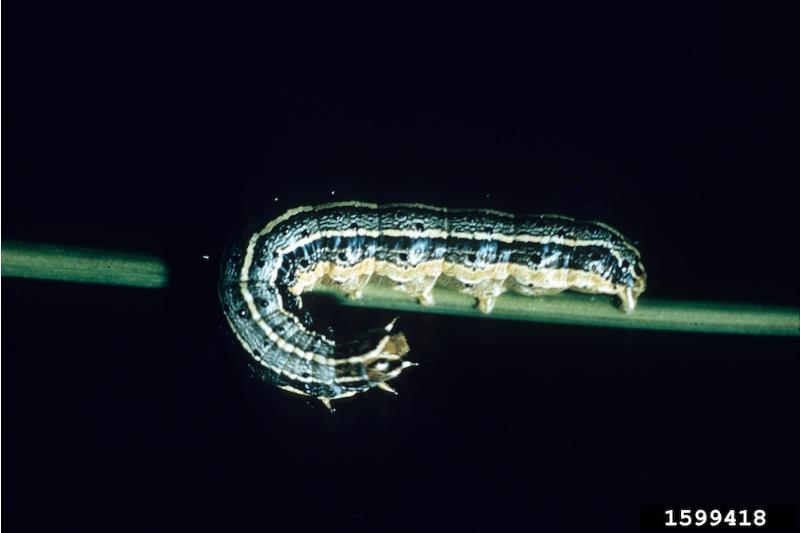fall-armyworm: (218, 202, 647, 402)
